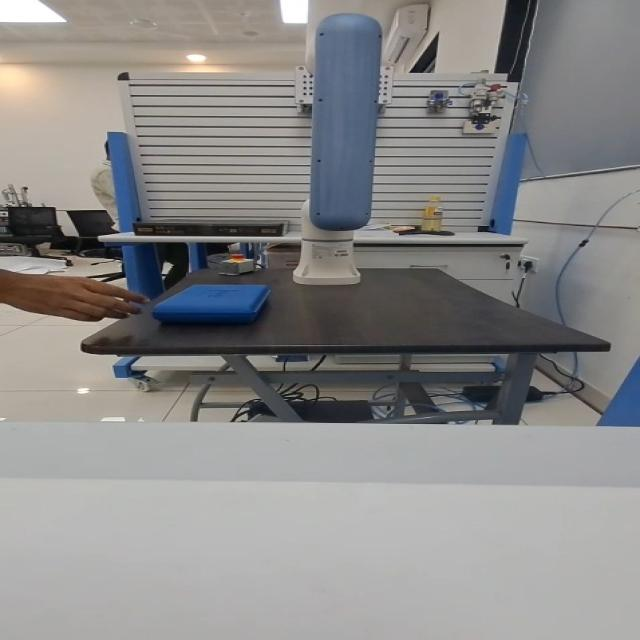top-surface: (167, 285, 262, 305)
